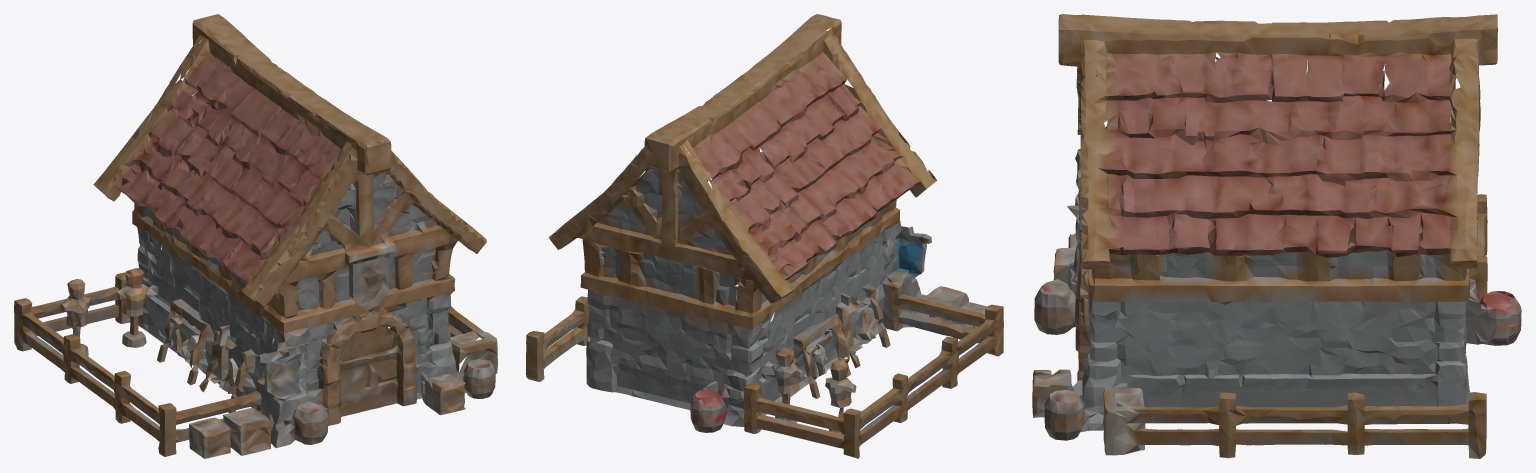
The model's file is building_barracks_lod1.glb.
3 renders of one model, left to right at view 1: azimuth 30°, elevation 25°; view 2: azimuth 150°, elevation 25°; view 3: azimuth 270°, elevation 25°, orthographic. The views are drawn at different scales.
Parts seen in each view (by area): view 1: world; view 2: world; view 3: world.
Part boxes in pixels (x1,y1,x2,y2): world: (14,14,497,458); world: (526,14,1003,458); world: (1032,14,1521,458).
Bounding box in the file's own units: 1.89 × 1.51 × 1.9.
